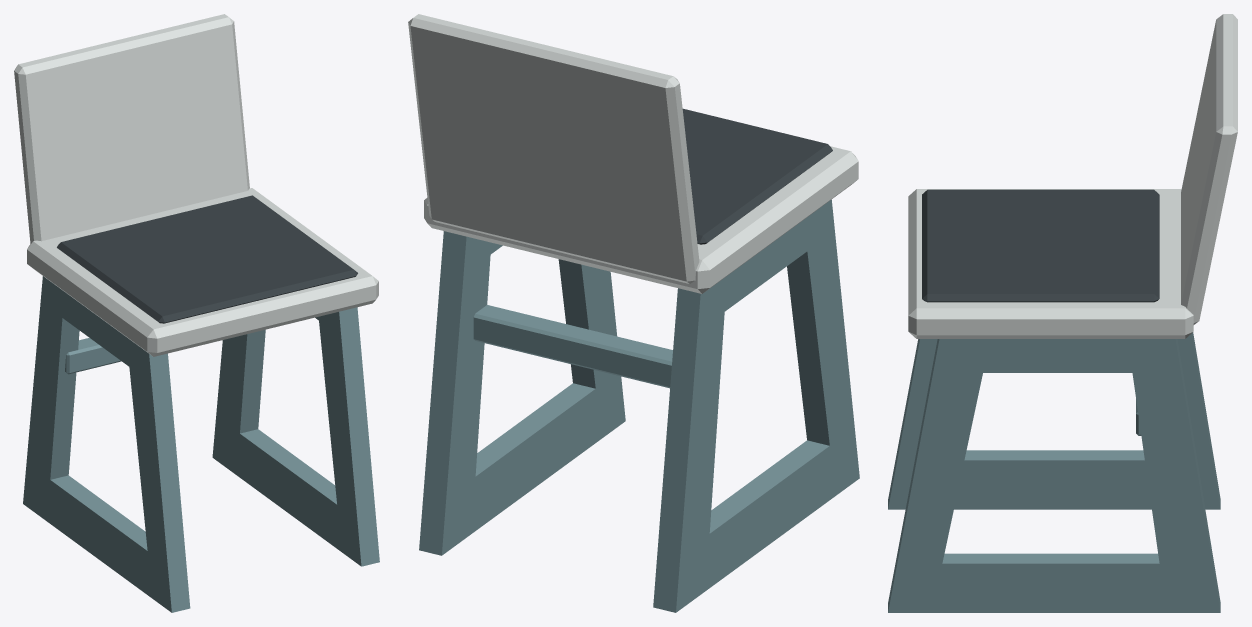
The picture shows the model from 3 angles, left to right: view 1: azimuth 30°, elevation 25°; view 2: azimuth 150°, elevation 25°; view 3: azimuth 270°, elevation 25°; orthographic projection. The views are drawn at different scales.
Visible parts, largest first — view 1: Low inclined observing back, Open sled side frame -1, Fixed seat inset pad, Open sled side frame 1, Fixed chamfered seat shell, Rear transverse fixed brace; view 2: Low inclined observing back, Open sled side frame -1, Open sled side frame 1, Fixed seat inset pad, Fixed chamfered seat shell, Rear transverse fixed brace; view 3: Open sled side frame 1, Fixed seat inset pad, Open sled side frame -1, Fixed chamfered seat shell, Low inclined observing back.
Part boxes in pixels (x1,y1,x2,y2): Low inclined observing back: (14,14,249,243); Open sled side frame -1: (23,276,190,612); Fixed seat inset pad: (57,195,357,323); Open sled side frame 1: (212,307,379,566); Fixed chamfered seat shell: (27,188,378,356); Rear transverse fixed brace: (65,338,121,374); Low inclined observing back: (408,14,699,283); Open sled side frame -1: (653,199,859,612); Open sled side frame 1: (419,231,625,555); Fixed seat inset pad: (682,108,832,244); Fixed chamfered seat shell: (424,146,858,293); Rear transverse fixed brace: (473,305,672,388); Open sled side frame 1: (888,339,1220,612); Fixed seat inset pad: (922,189,1159,302); Open sled side frame -1: (888,332,1220,509); Fixed chamfered seat shell: (908,189,1193,338); Low inclined observing back: (1181,14,1237,324).
Size of the model in its own units: 0.44 by 0.79 by 0.5154.
